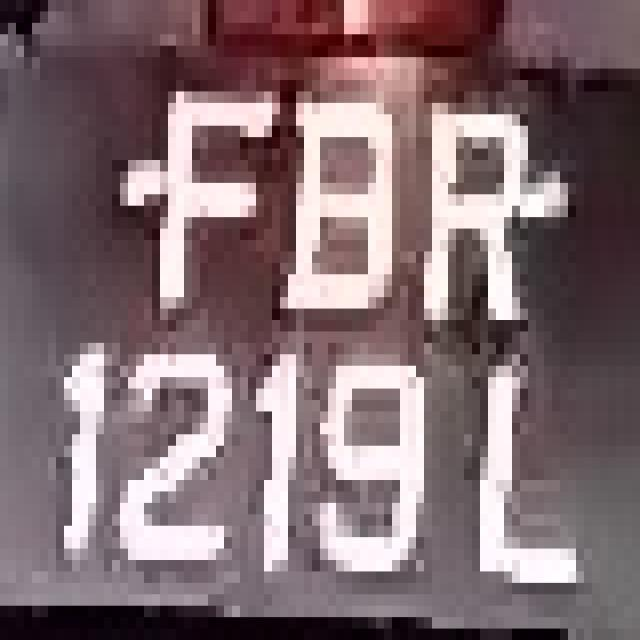1: (56, 263, 112, 583), (240, 320, 304, 594)
2: (128, 286, 224, 594)
9: (312, 309, 424, 617)
B: (272, 68, 392, 366)
F: (112, 57, 264, 309)
L: (448, 308, 616, 628)
R: (416, 69, 544, 354)
